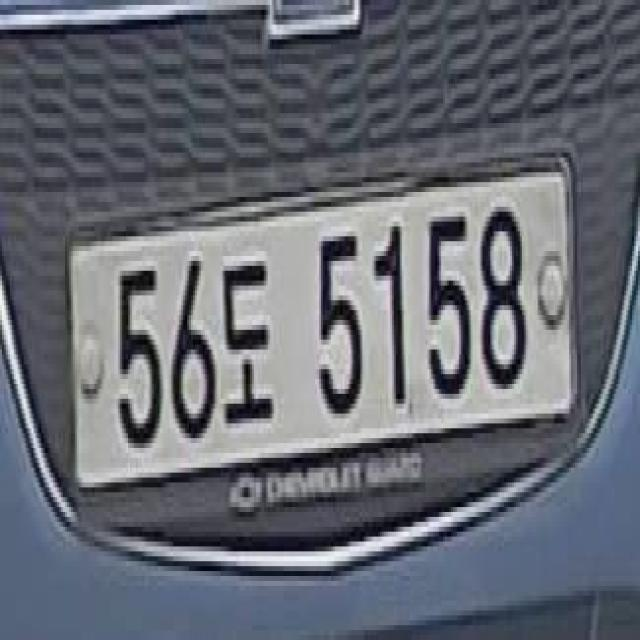illegal_plate: (66, 151, 584, 517)
